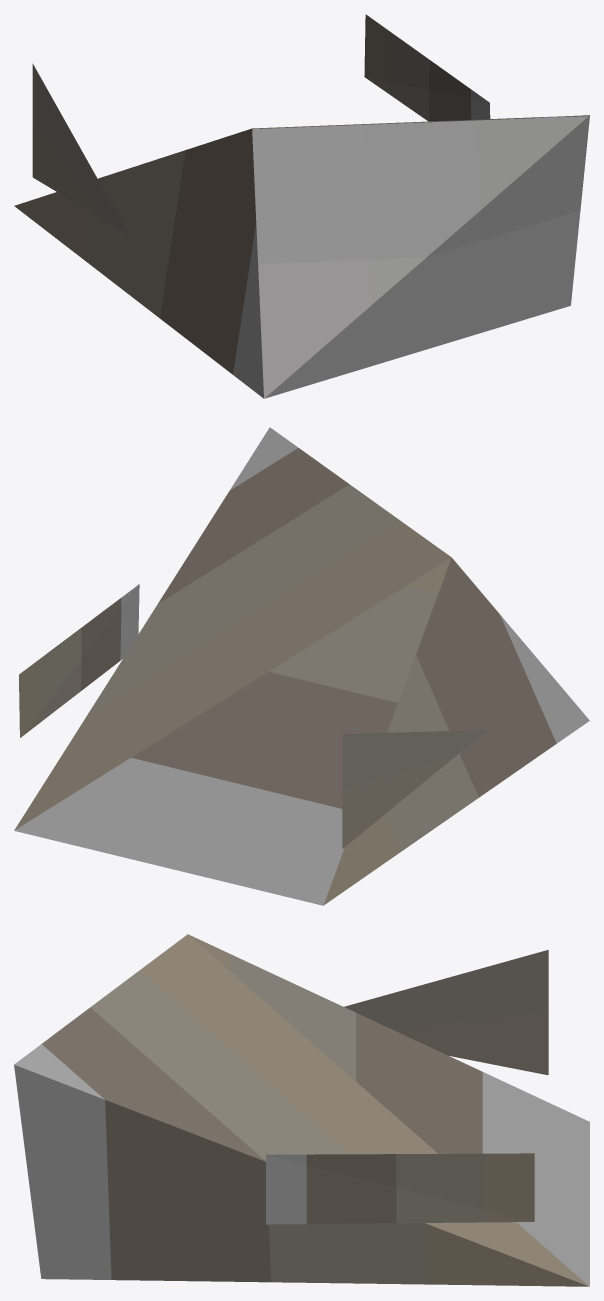
File: zbfkx005-geode.glb
3 renders of one model, top to bottom at view 1: azimuth 30°, elevation 25°; view 2: azimuth 150°, elevation 25°; view 3: azimuth 270°, elevation 25°, orthographic. The views are drawn at different scales.
Visible parts, largest first — view 1: Node; view 2: Node; view 3: Node.
Part boxes in pixels (x1,y1,x2,y2): Node: (14,14,589,398); Node: (14,427,589,905); Node: (14,934,589,1286).
Bounding box in the file's own units: 1.02 × 0.5737 × 1.3.
1 material, 1 textured.
